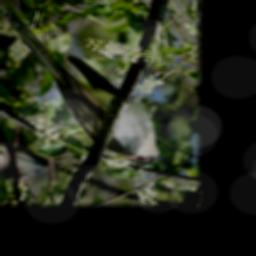Cuckoo: (0, 3, 173, 167)
